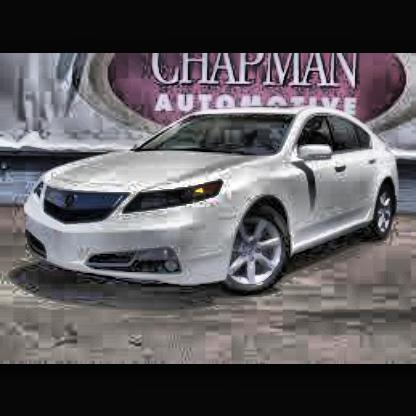Acura TL Sedan 2012: (22, 109, 402, 298)
